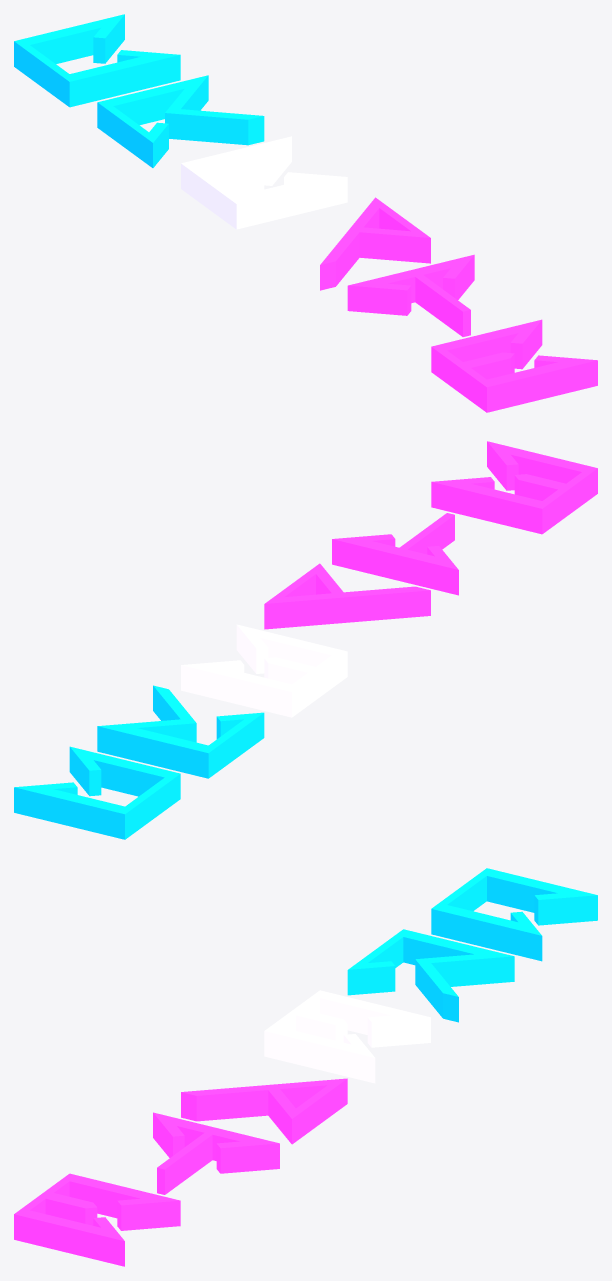
Rendered from sign-create.fbx.
3 views of the same model, one above another, from view 1: azimuth 30°, elevation 25°; view 2: azimuth 150°, elevation 25°; view 3: azimuth 330°, elevation 25° (orthographic).
Parts seen in each view (by area): view 1: Text; view 2: Text; view 3: Text.
Boxes of the visible parts, x1,y1,x2,y2 form: Text: (14,14,597,412); Text: (14,441,597,839); Text: (14,868,597,1266).
Size of the model in its own units: 121 by 23.21 by 779.
